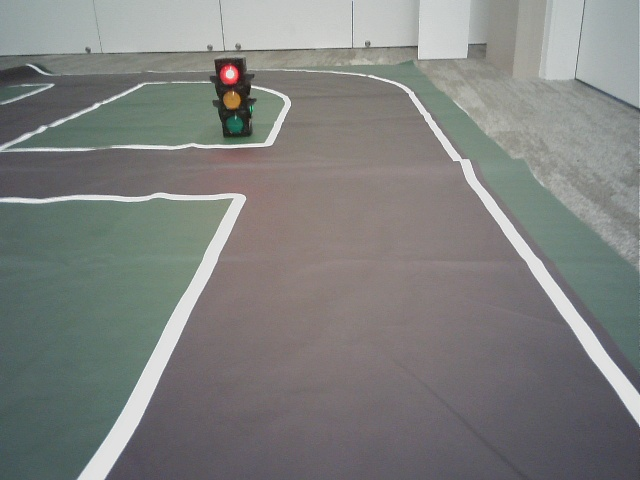red: (215, 60, 250, 135)
